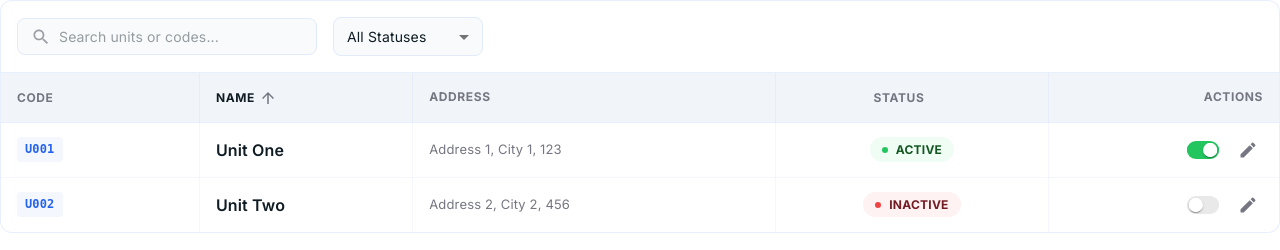
Test: UnitsTable › filters units by search term
Type "One" into the field with placeholder "Search units or codes...".
click(188, 36); type("One")  # box x1=59 y1=18 x2=317 y2=54
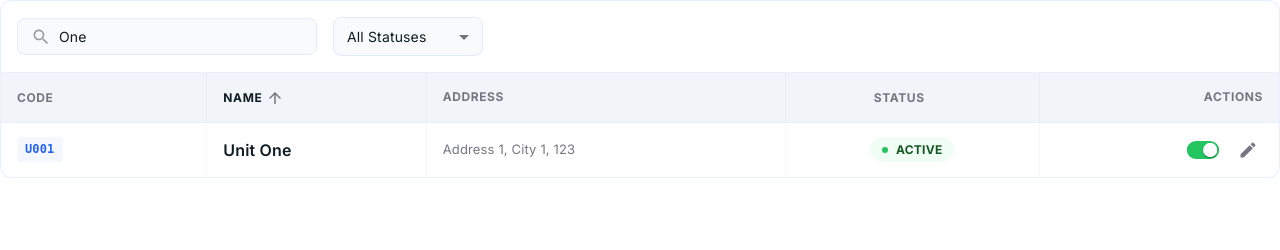
Expected: the text "Unit One" is shown, x1=223 y1=140 x2=292 y2=160
Result: the text "Unit Two" is gone
